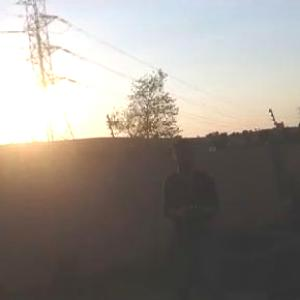follow: (152, 130, 226, 299)
